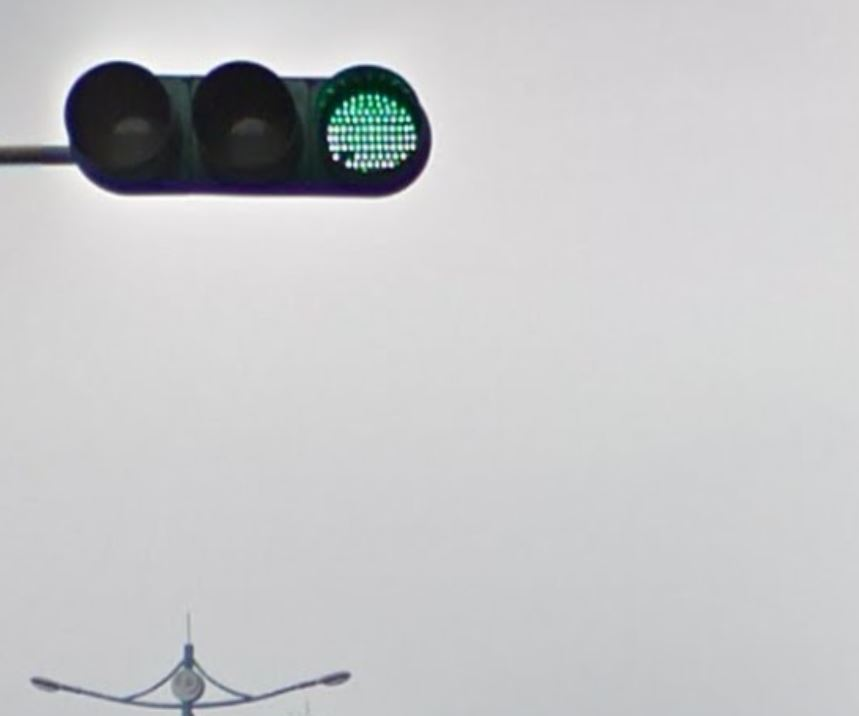Traffic_light_green: (59, 56, 437, 207)
